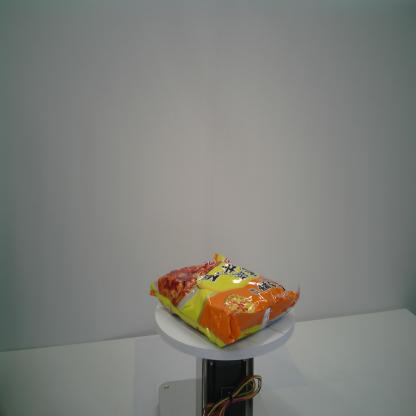Instant Noodles: (149, 253, 301, 348)
